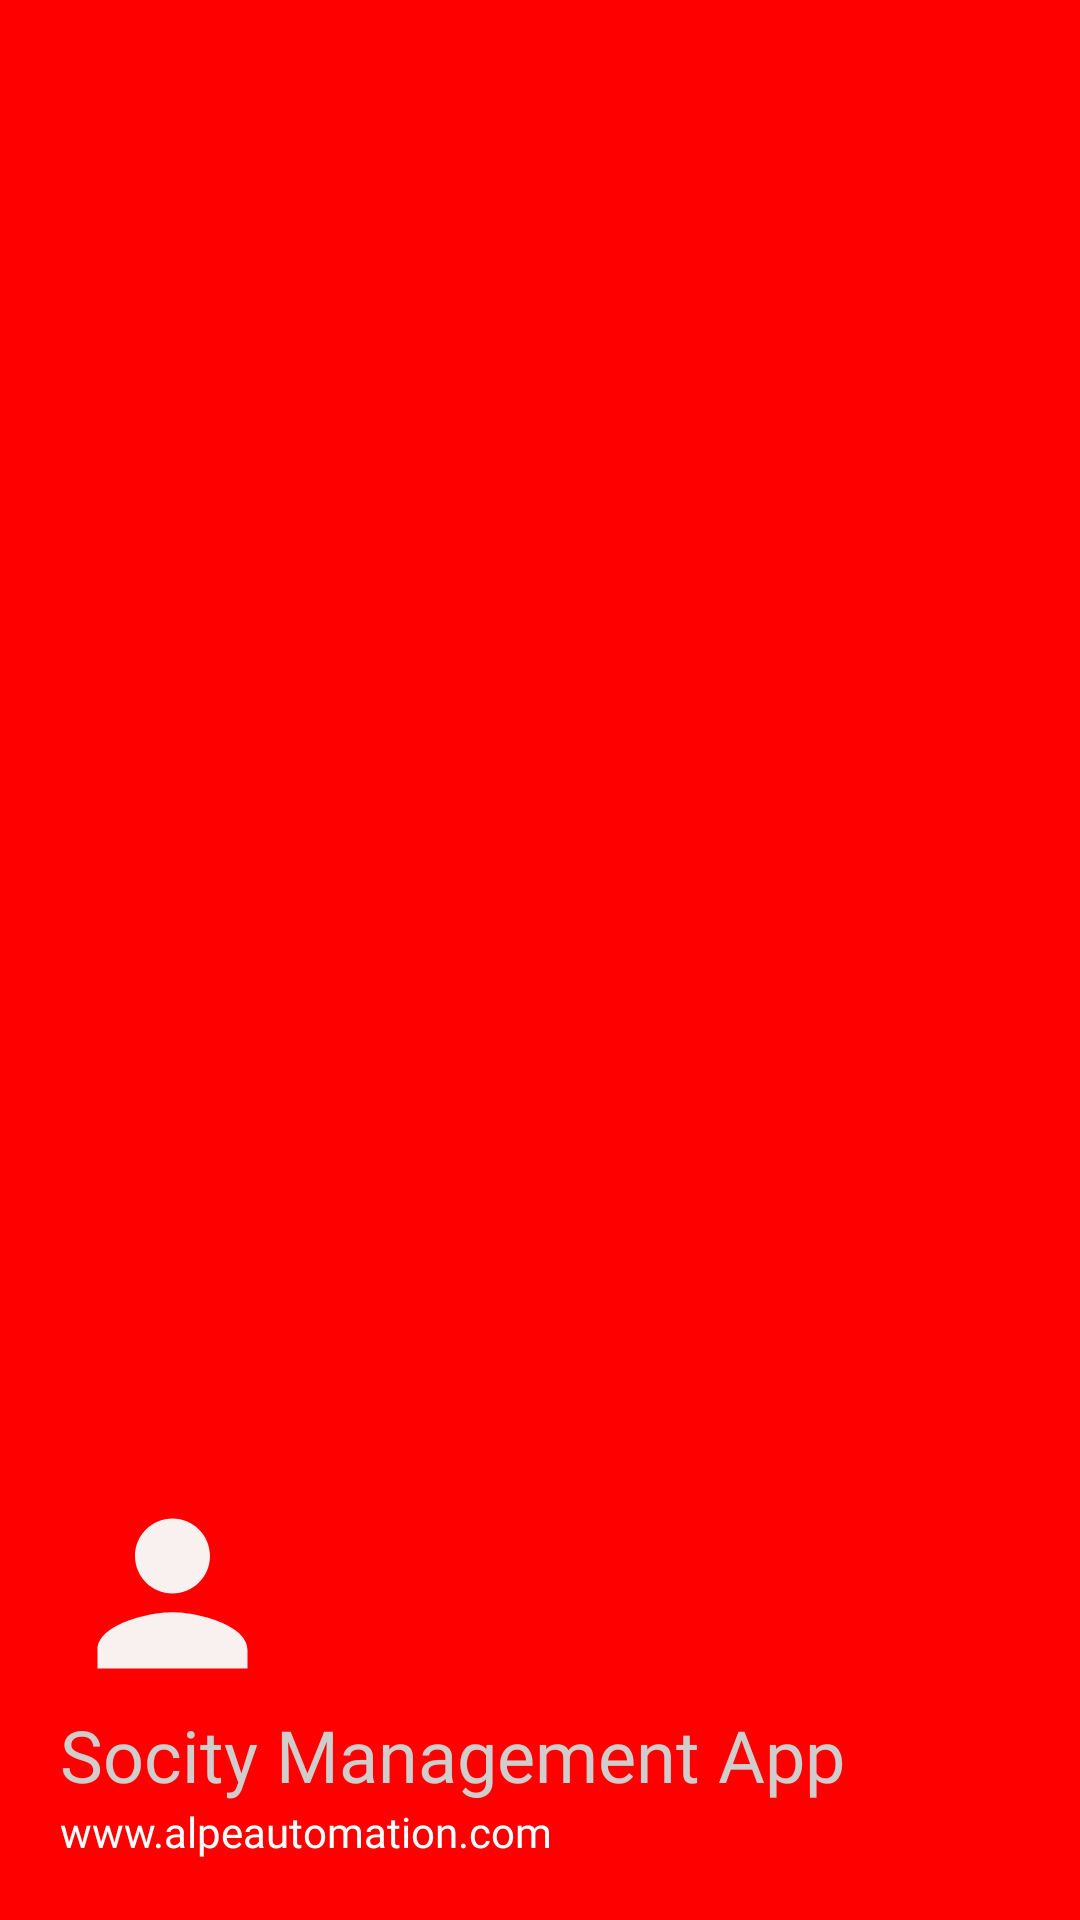

Named icons in this screenshot (1080px×1920px) and their bounding boxes, box(x1, y1, x2, y2):
profile: box(97, 1518, 248, 1669)
